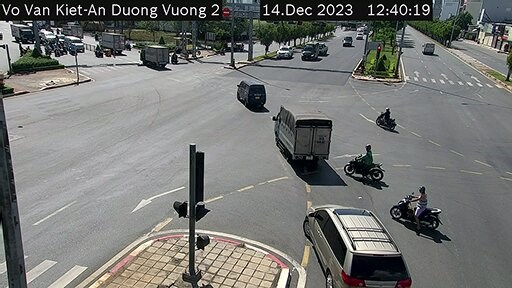car: (305, 192, 412, 288), (228, 75, 271, 109), (300, 43, 321, 64), (277, 41, 289, 66), (421, 42, 438, 56), (340, 33, 354, 50)
motorbike: (402, 185, 448, 236), (347, 142, 385, 184), (374, 105, 398, 130)
truck: (272, 100, 336, 163), (133, 43, 169, 69), (103, 30, 124, 52)
